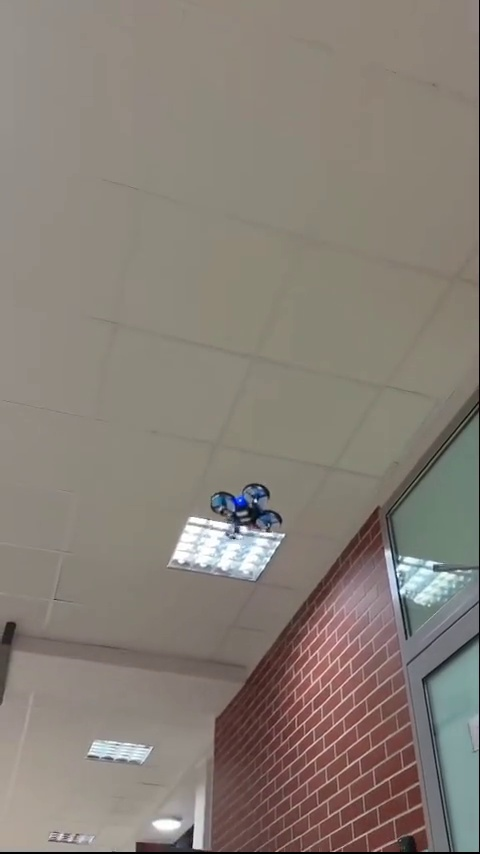drone: (206, 482, 285, 544)
